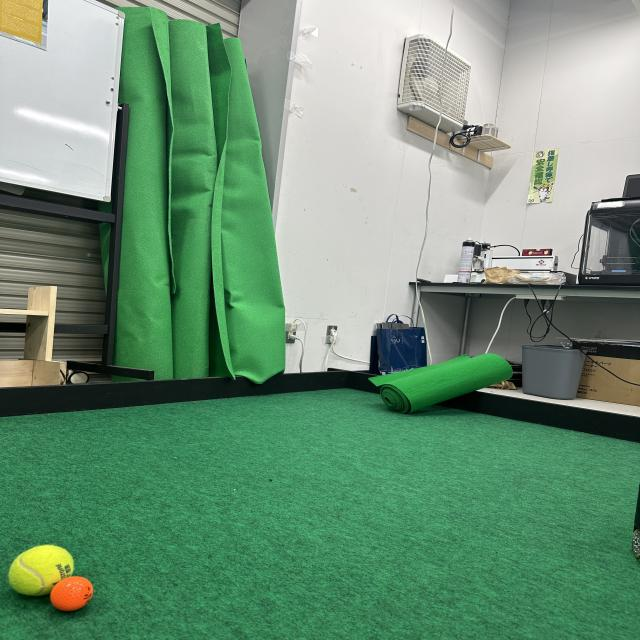ball: (49, 575, 94, 613)
